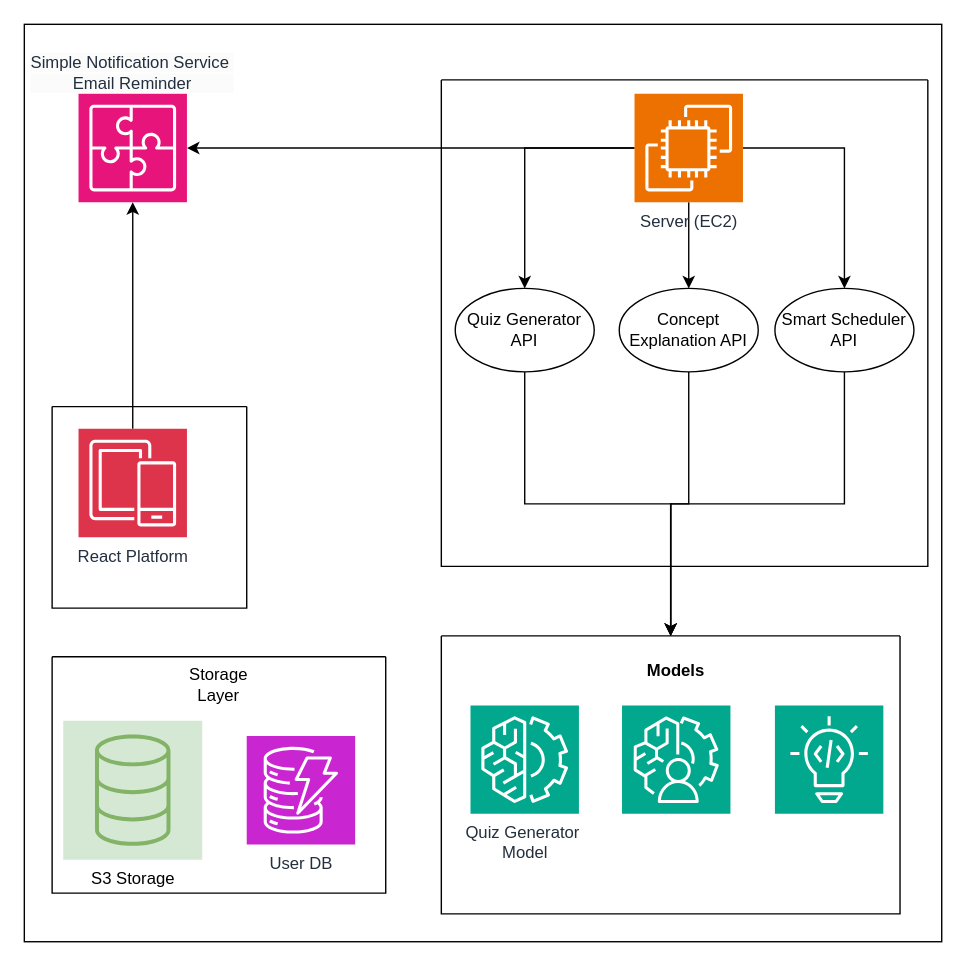
The diagram is 966 pixels wide and 966 high, and some of its shapes have lost their labels. Each missing label, with the box of its shape:
Compute Layer: (440, 79, 928, 566)
Concept Explanation Model: (621, 704, 730, 814)
Frontend Layer: (51, 405, 247, 608)
Smart Scheduler Algorithm: (774, 704, 883, 814)
